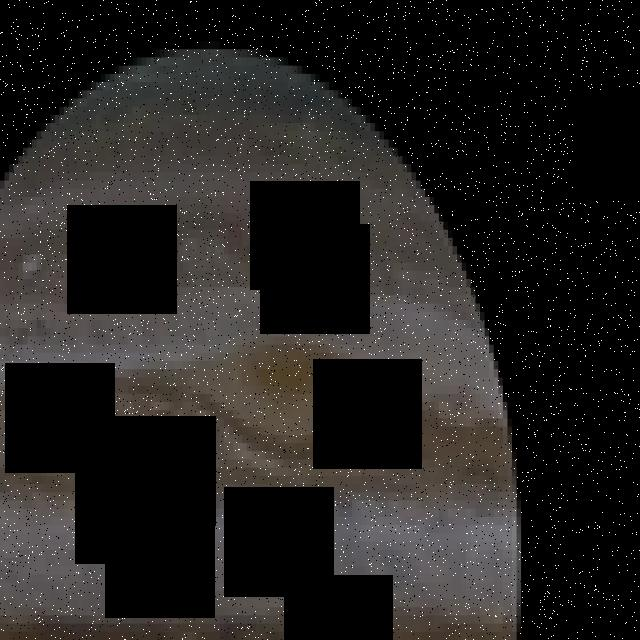Jupiter: (0, 49, 521, 640)
